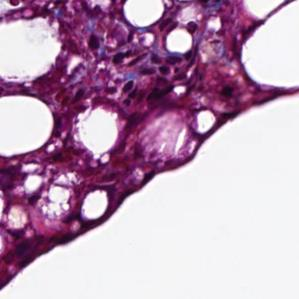inflammation: (110, 47, 163, 78)
